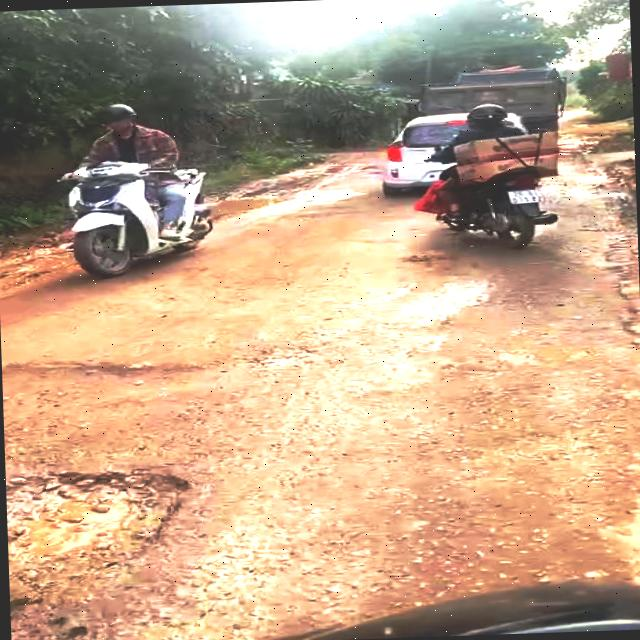pothole: (5, 458, 198, 595), (1, 344, 291, 430)
